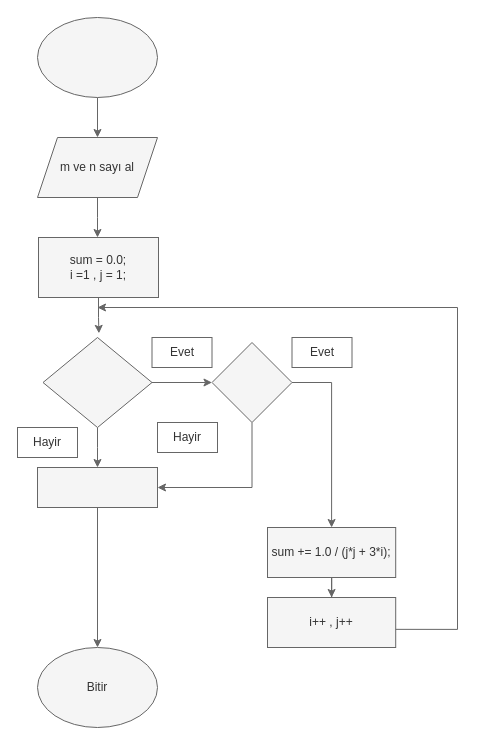
This 483x745 diagram has some shape labels left out. The box of each missing label's shape, as (x1, y1, x2, y2) in pixels:
Başla: (36, 16, 158, 98)
i <= m ?: (42, 336, 152, 428)
j <= n ?: (211, 342, 292, 422)
Sonucu (sum) ekrana yazdır: (36, 466, 158, 508)
